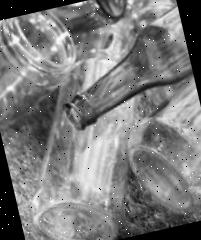glass: (42, 0, 199, 134)
